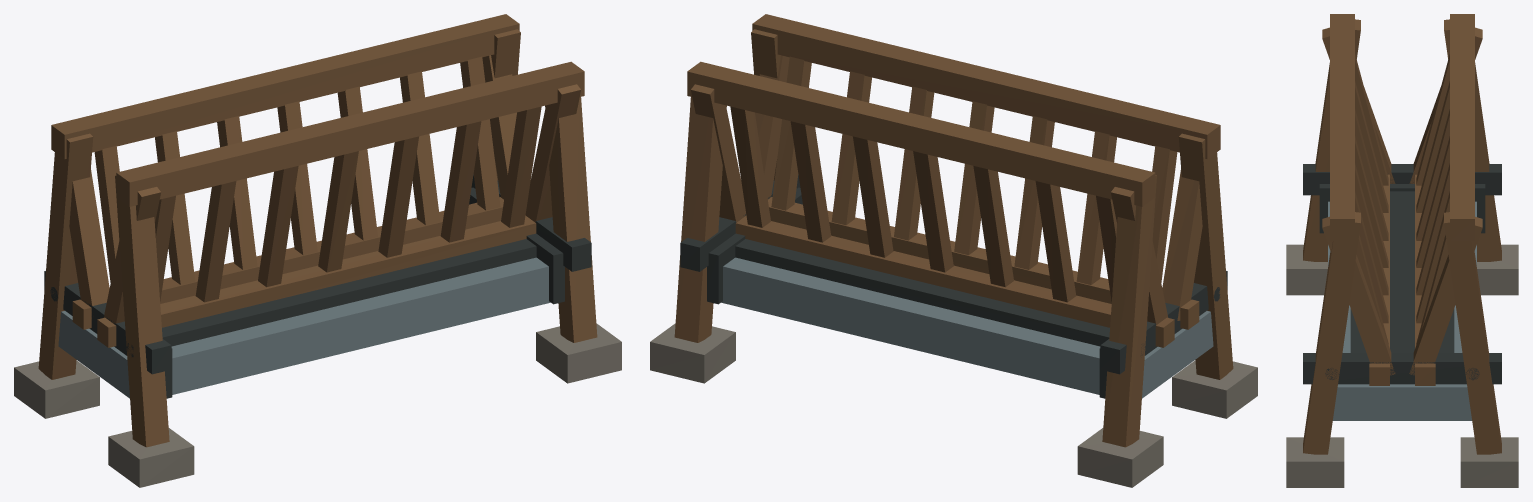
The model's file is Hay-Rack.glb.
3 renders of one model, left to right at view 1: azimuth 30°, elevation 25°; view 2: azimuth 150°, elevation 25°; view 3: azimuth 270°, elevation 25°, orthographic. The views are drawn at different scales.
Visible parts, largest first — view 1: hay-rack-static-hay-rack-weathered-timber, hay-rack-static-hay-rack-galvanized-catch-tray, hay-rack-static-hay-rack-dark-iron-hardware, hay-rack-static-hay-rack-stable-stone-feet; view 2: hay-rack-static-hay-rack-weathered-timber, hay-rack-static-hay-rack-galvanized-catch-tray, hay-rack-static-hay-rack-dark-iron-hardware, hay-rack-static-hay-rack-stable-stone-feet; view 3: hay-rack-static-hay-rack-weathered-timber, hay-rack-static-hay-rack-dark-iron-hardware, hay-rack-static-hay-rack-stable-stone-feet, hay-rack-static-hay-rack-galvanized-catch-tray.
Boxes of the visible parts, x1,y1,x2,y2 form: hay-rack-static-hay-rack-weathered-timber: (38,14,597,447); hay-rack-static-hay-rack-galvanized-catch-tray: (58,257,550,398); hay-rack-static-hay-rack-dark-iron-hardware: (44,174,591,398); hay-rack-static-hay-rack-stable-stone-feet: (14,323,621,487); hay-rack-static-hay-rack-weathered-timber: (674,14,1233,447); hay-rack-static-hay-rack-galvanized-catch-tray: (721,257,1213,398); hay-rack-static-hay-rack-dark-iron-hardware: (680,174,1227,398); hay-rack-static-hay-rack-stable-stone-feet: (650,323,1257,487); hay-rack-static-hay-rack-weathered-timber: (1303,14,1501,454); hay-rack-static-hay-rack-dark-iron-hardware: (1303,164,1501,384); hay-rack-static-hay-rack-stable-stone-feet: (1286,244,1518,487); hay-rack-static-hay-rack-galvanized-catch-tray: (1328,201,1476,420).
Bounding box in the file's own units: 2.48 × 1.4 × 1.12.
